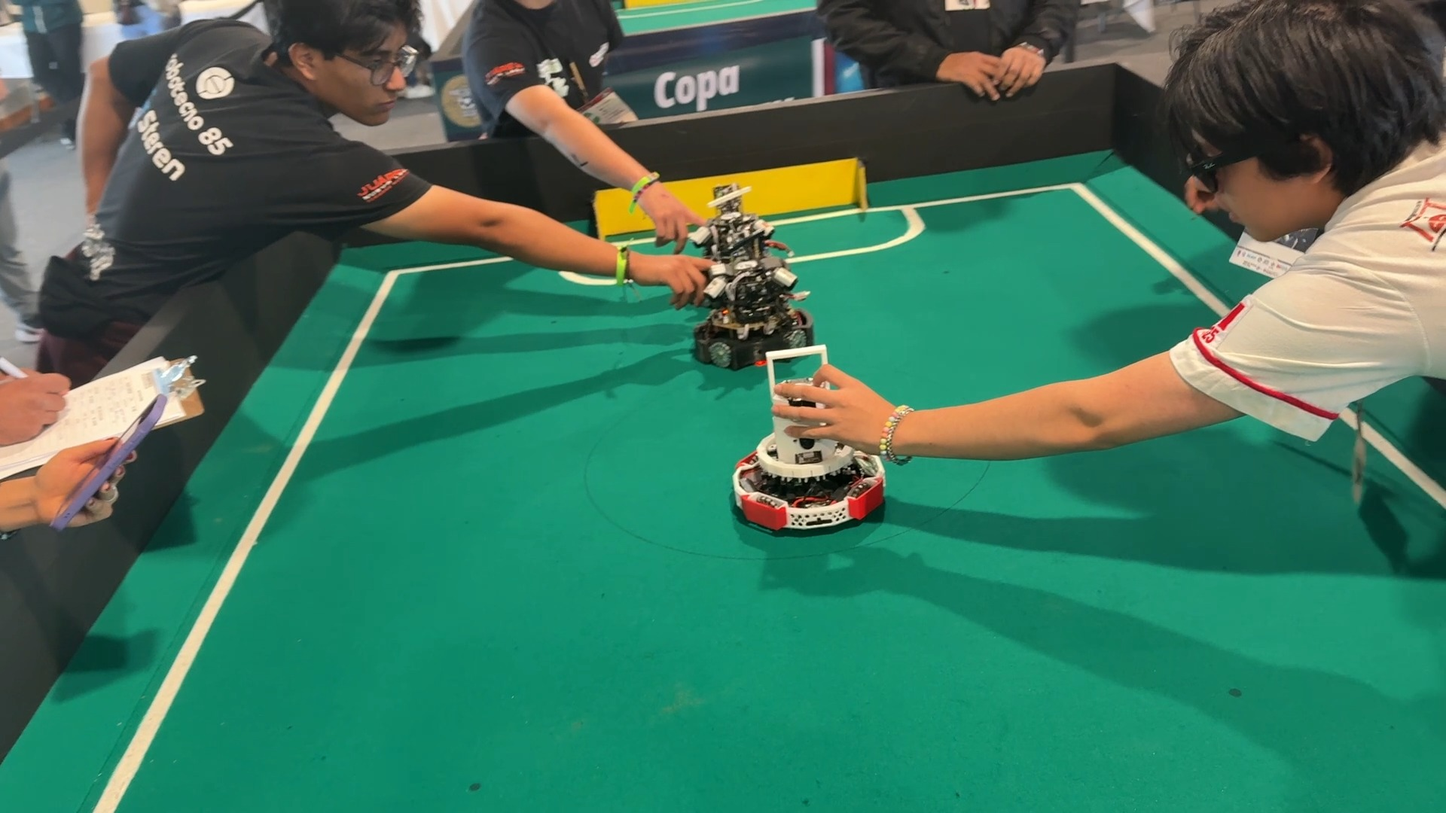Robot: (730, 336, 886, 564), (692, 241, 816, 396), (681, 176, 791, 298)
